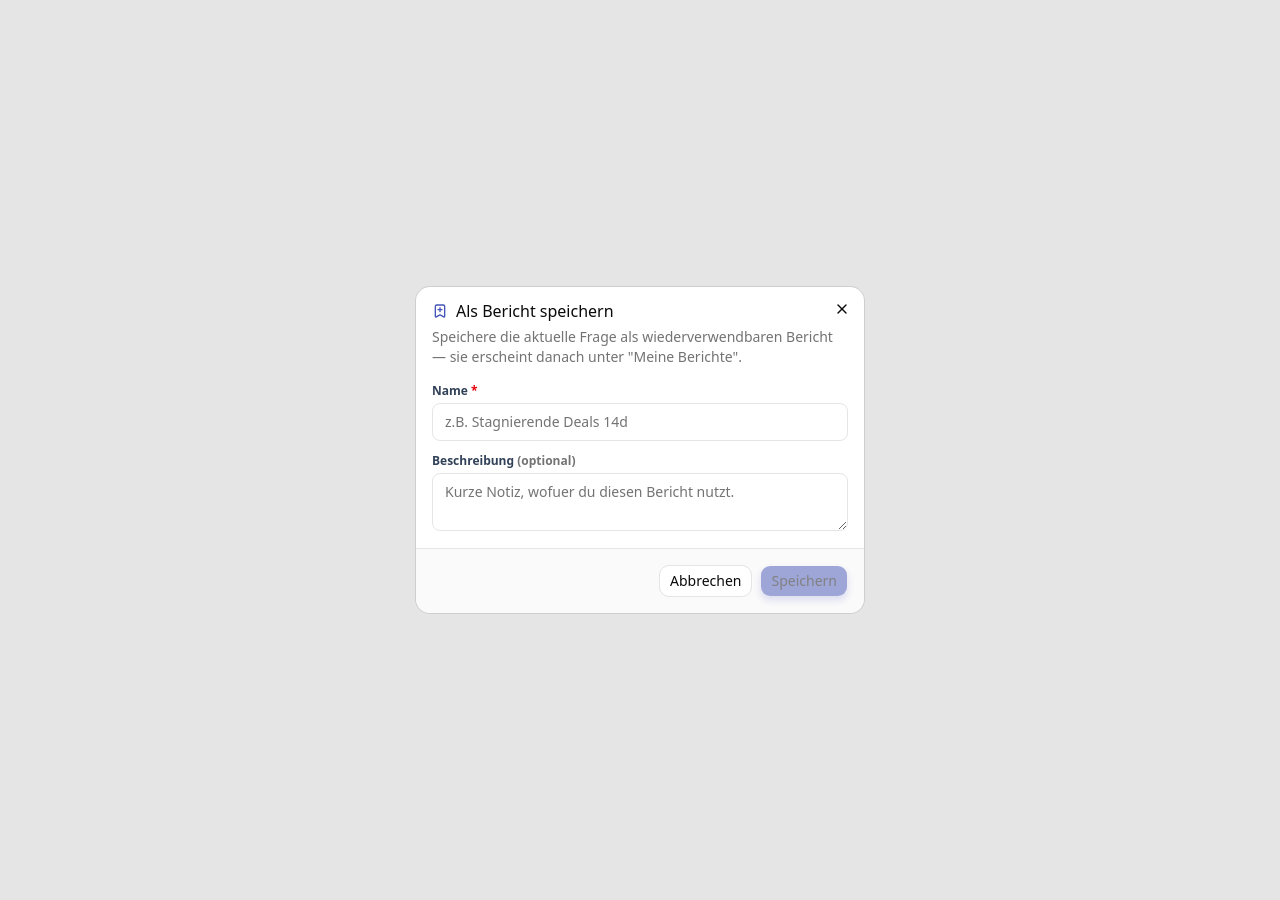
Test: SaveCustomReportModal › Submit with infra error shows the server message inline
Step 1. Type "Foo" into the field with test id "save-custom-report-name" → (640, 422), box x1=432 y1=403 x2=848 y2=441
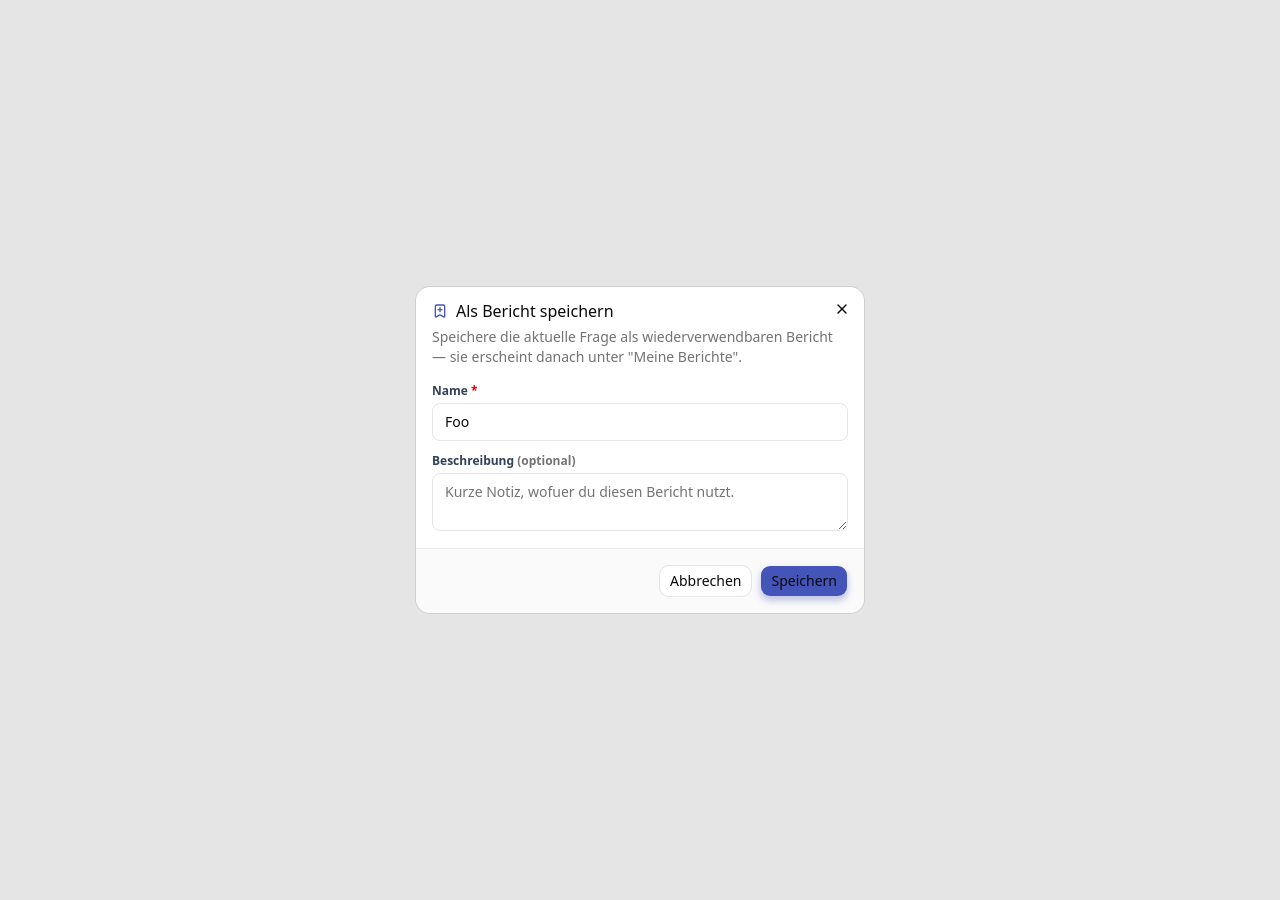
Step 2. Submit the form with test id "save-custom-report-form", box x1=432 y1=383 x2=848 y2=597
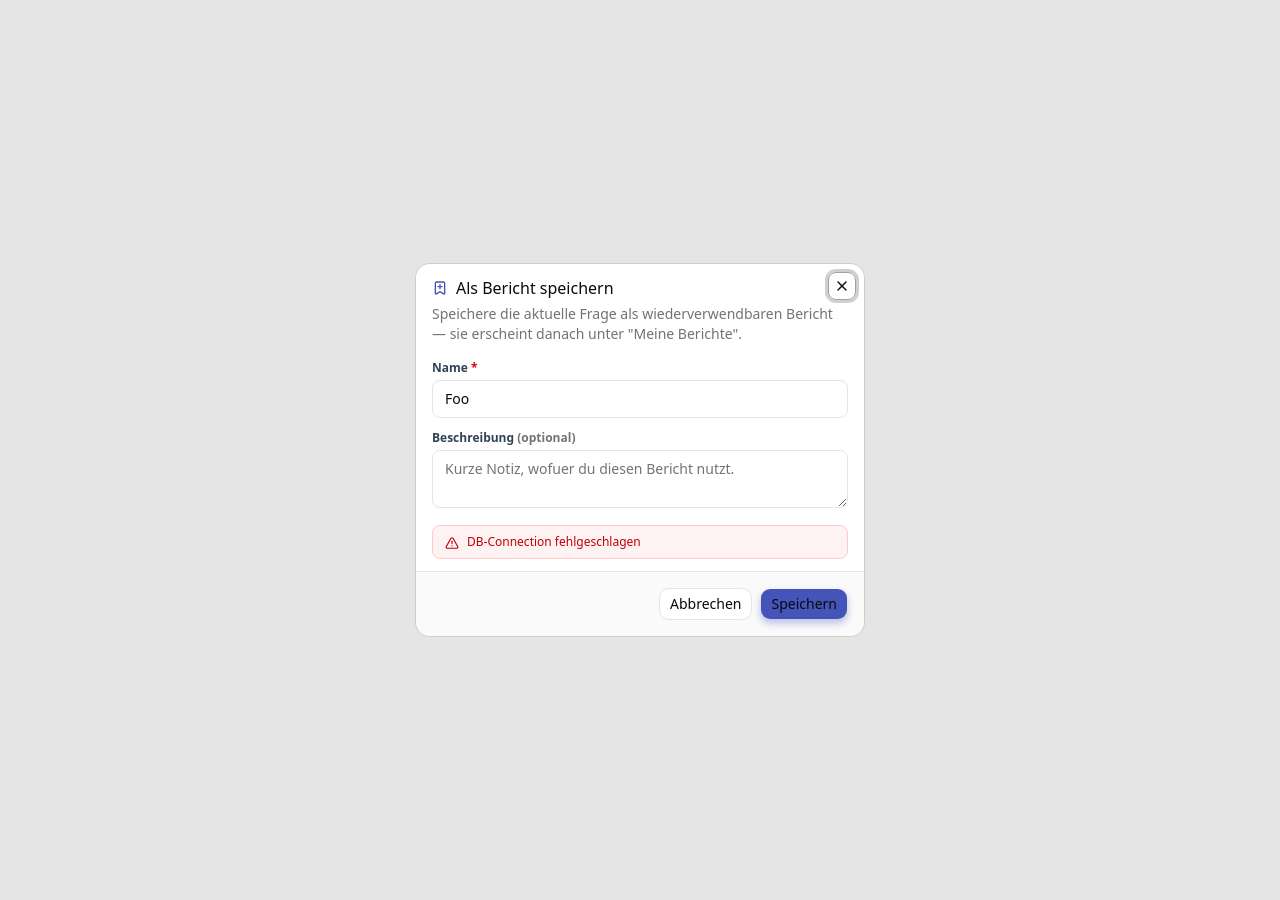
Result: the message with test id "save-custom-report-error" reads "DB-Connection fehlgeschlagen" at x1=467 y1=533 x2=641 y2=550
